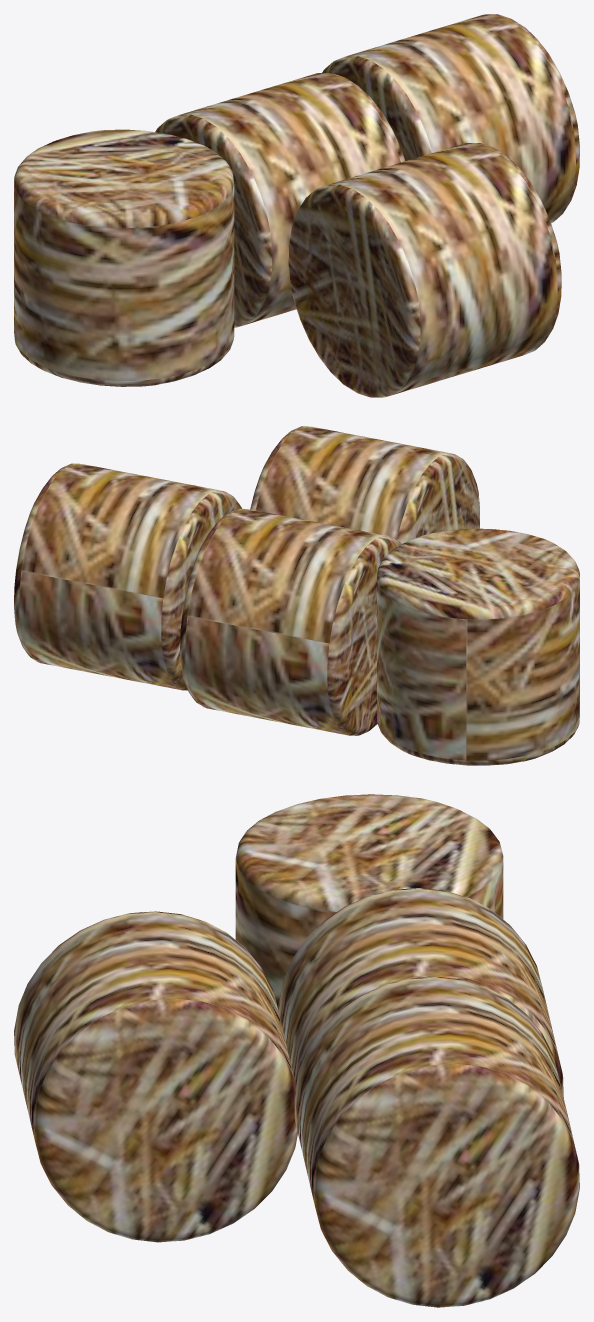
The model's file is Hay_heatField.fbx.
The picture shows the model from 3 angles, top to bottom: view 1: azimuth 30°, elevation 25°; view 2: azimuth 150°, elevation 25°; view 3: azimuth 270°, elevation 25°; orthographic projection. The views are drawn at different scales.
Visible parts, largest first — view 1: HayClump_1; view 2: HayClump_1; view 3: HayClump_1.
Part boxes in pixels (<box>): HayClump_1: <box>14,14,579,397</box>; HayClump_1: <box>14,426,579,765</box>; HayClump_1: <box>14,794,579,1307</box>.
Bounding box in the file's own units: 654 × 248 × 496.
